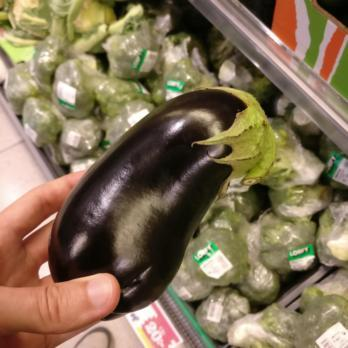Brinjal: (46, 87, 264, 316)
